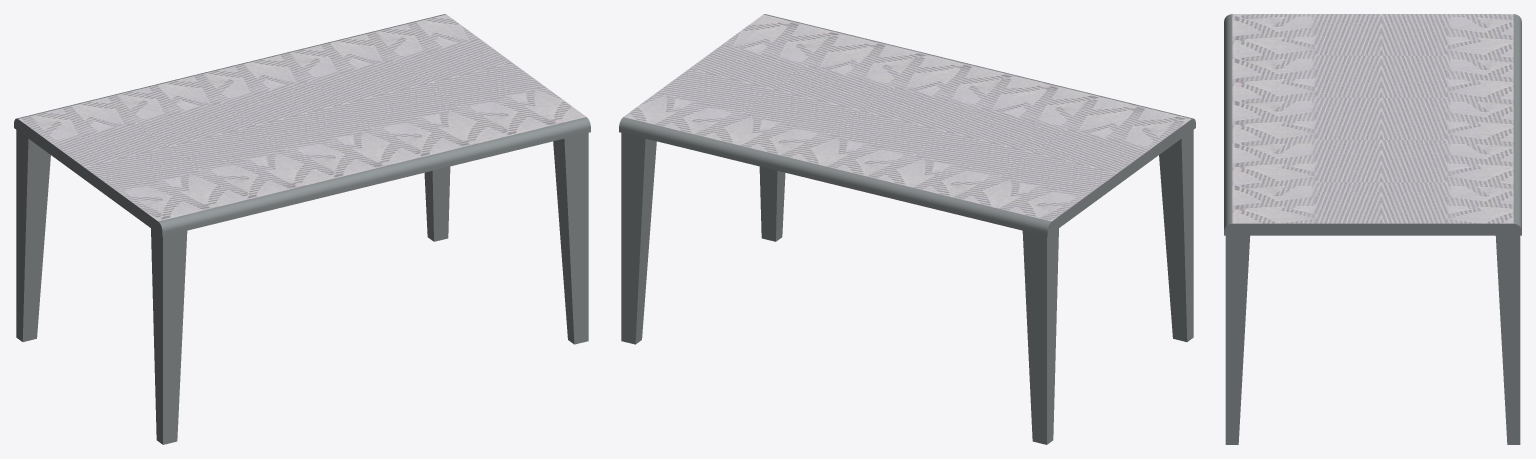
Rendered from alpha_table_darkgray.fbx.
3 views of the same model, side by side, from view 1: azimuth 30°, elevation 25°; view 2: azimuth 150°, elevation 25°; view 3: azimuth 270°, elevation 25° (orthographic).
Visible parts, largest first — view 1: alpha_table_darkgray.001, alpha_table_darkgray; view 2: alpha_table_darkgray.001, alpha_table_darkgray; view 3: alpha_table_darkgray.001, alpha_table_darkgray.
Part boxes in pixels (<box>): alpha_table_darkgray.001: <box>18,14,585,221</box>; alpha_table_darkgray: <box>14,14,590,444</box>; alpha_table_darkgray.001: <box>624,14,1191,221</box>; alpha_table_darkgray: <box>619,14,1195,444</box>; alpha_table_darkgray.001: <box>1232,14,1513,223</box>; alpha_table_darkgray: <box>1224,14,1521,444</box>.
Bounding box in the file's own units: 150 × 74.04 × 90.
Materials: 2 (1 with a texture image).
